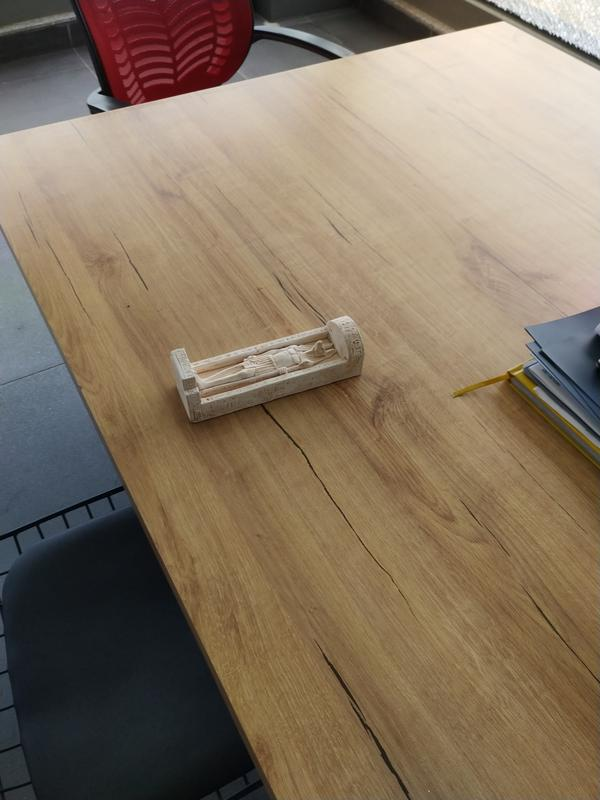heykel: (159, 308, 371, 429)
